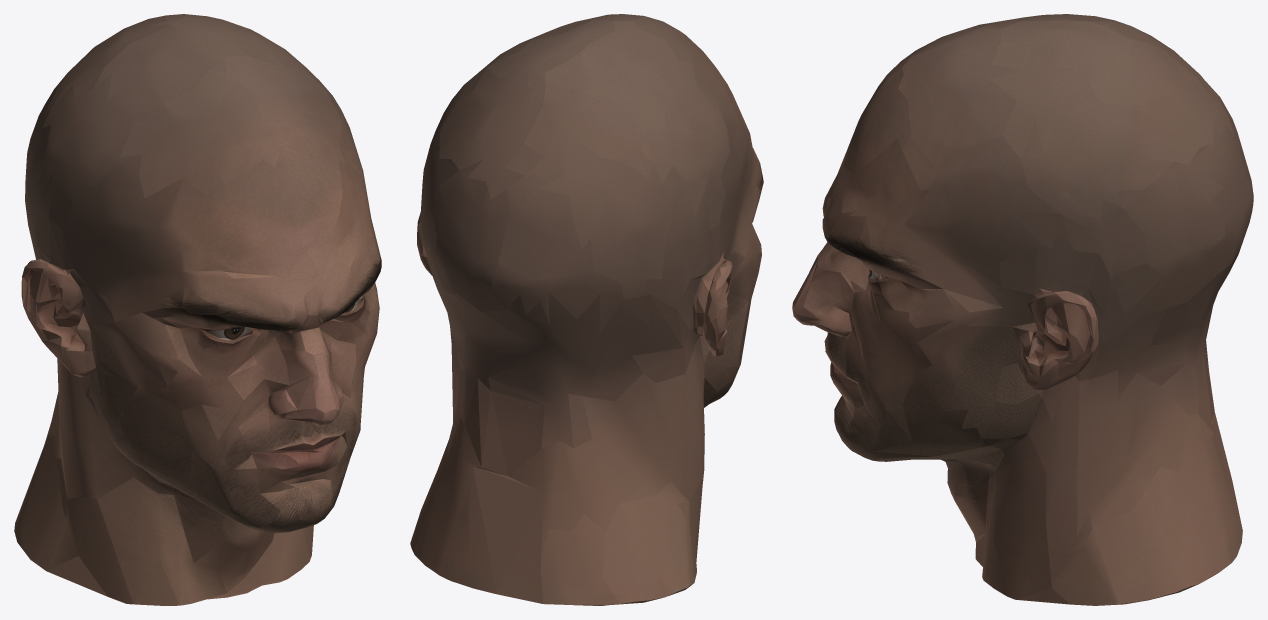
The model's file is head.glb.
The picture shows the model from 3 angles, left to right: view 1: azimuth 30°, elevation 25°; view 2: azimuth 150°, elevation 25°; view 3: azimuth 270°, elevation 25°; orthographic projection. The views are drawn at different scales.
Visible parts, largest first — view 1: Mesh_0; view 2: Mesh_0; view 3: Mesh_0.
Boxes of the visible parts, bbox=[...] form: Mesh_0: bbox=[14, 14, 381, 605]; Mesh_0: bbox=[410, 14, 763, 605]; Mesh_0: bbox=[792, 14, 1253, 605].
Size of the model in its own units: 1.17 by 1.9 by 1.5.
Materials: 1 (1 with a texture image).
